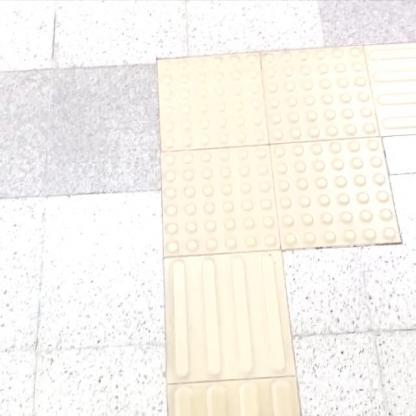podotacti: (136, 27, 415, 297), (163, 262, 306, 415)
